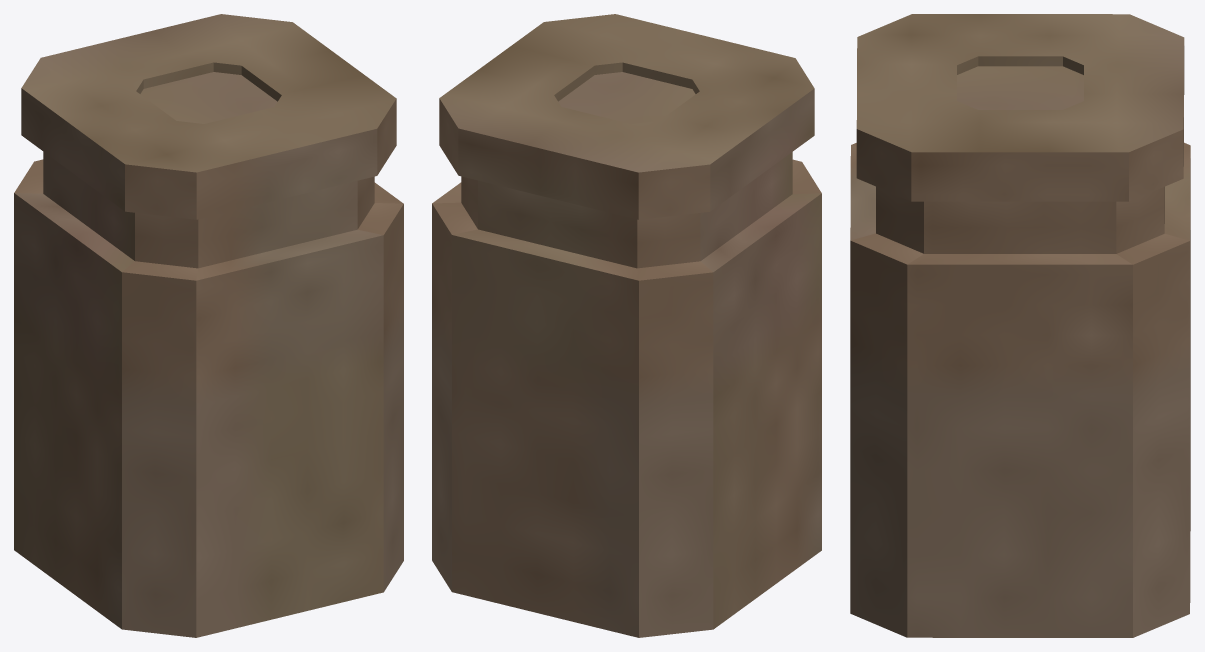
File: xi_dsp_bollard.gltf
The picture shows the model from 3 angles, left to right: view 1: azimuth 30°, elevation 25°; view 2: azimuth 150°, elevation 25°; view 3: azimuth 270°, elevation 25°; orthographic projection. The views are drawn at different scales.
Visible parts, largest first — view 1: xi_dsp_bollard; view 2: xi_dsp_bollard; view 3: xi_dsp_bollard.
Boxes of the visible parts, x1,y1,x2,y2 form: xi_dsp_bollard: [14, 14, 403, 637]; xi_dsp_bollard: [432, 14, 821, 637]; xi_dsp_bollard: [850, 14, 1190, 637].
Bounding box in the file's own units: 0.9081 × 1.42 × 0.9081.
1 material, 1 textured.
